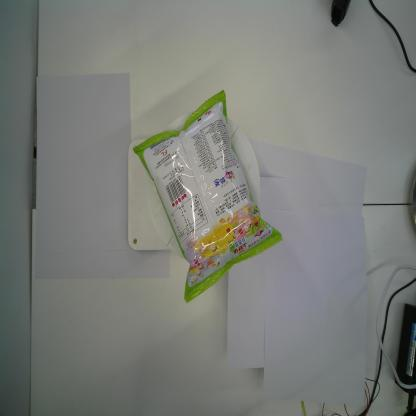Puffed Food: (132, 87, 285, 306)
